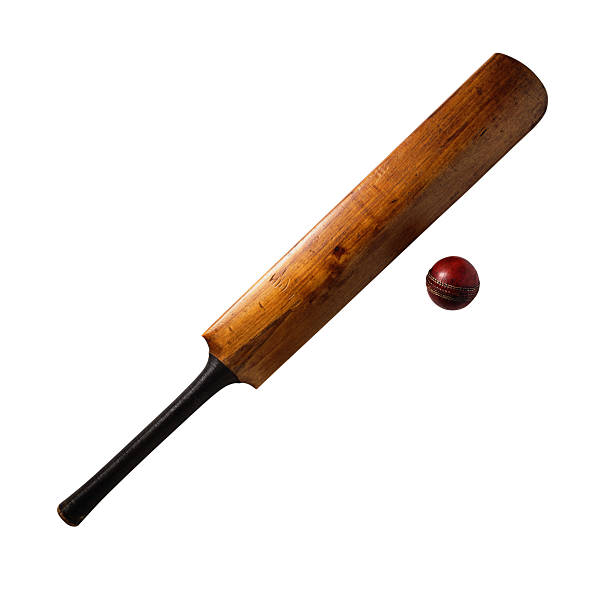bottom left: (483, 30, 524, 71)
bottom right: (528, 78, 566, 116)
top left: (183, 324, 218, 359)
top right: (250, 374, 275, 399)
